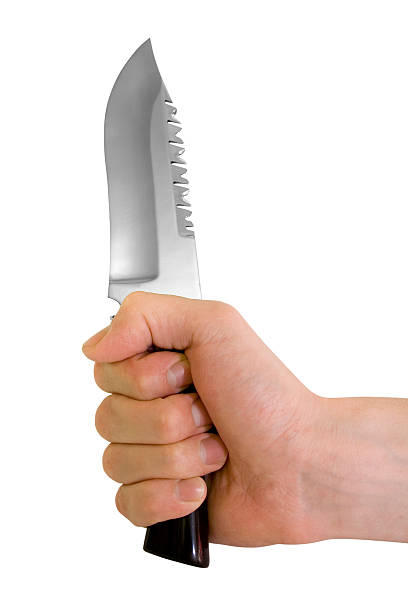knife: (101, 34, 210, 569)
